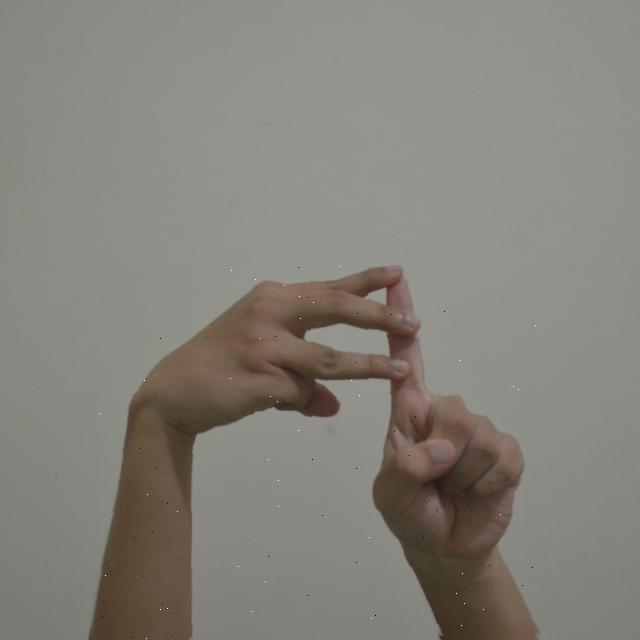B: (93, 266, 539, 639)
